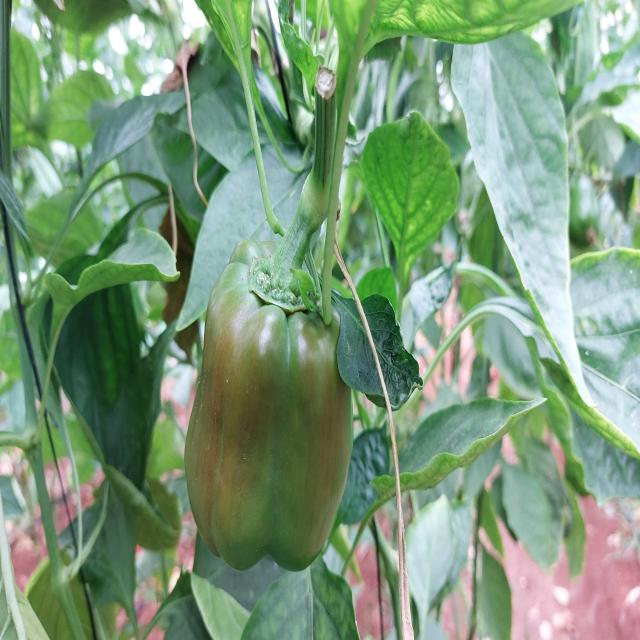Green--Not-ready-to-harvest: (181, 233, 356, 572)
